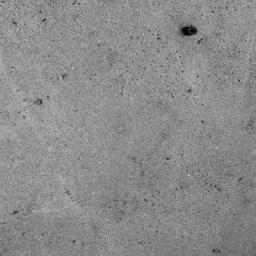FOD: (181, 24, 201, 39)
